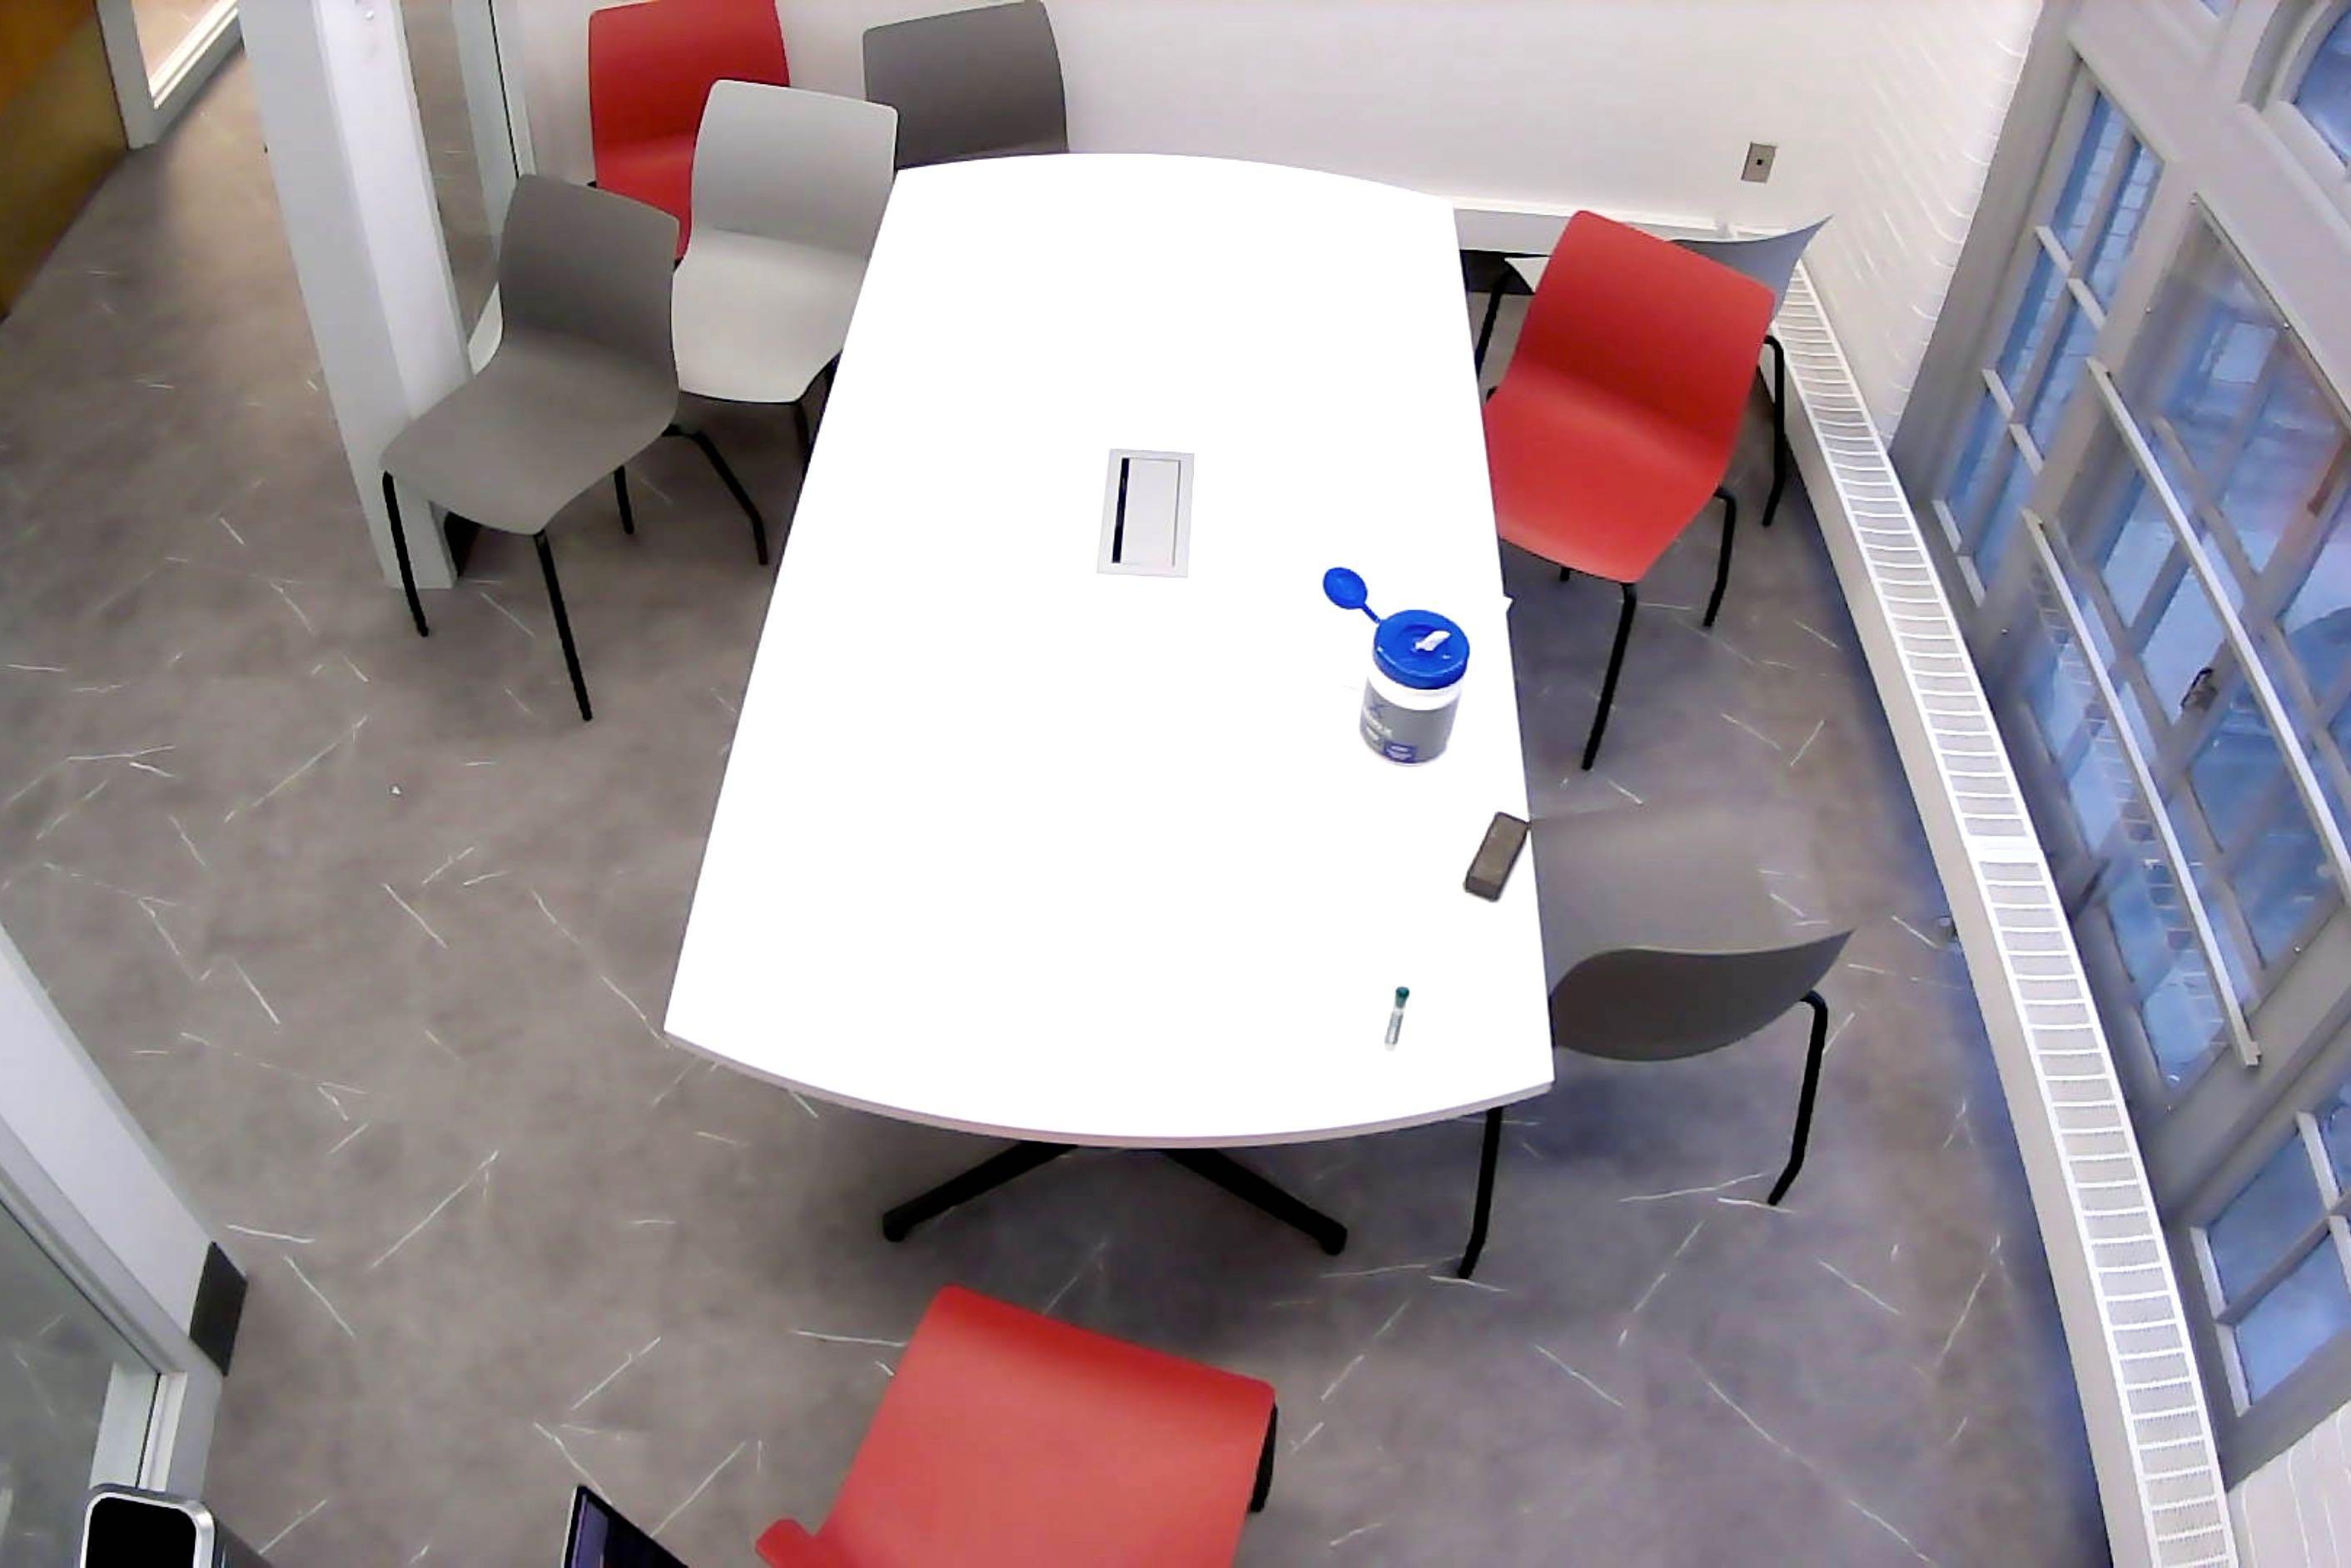Chair: (380, 168, 770, 716), (1451, 805, 1857, 1281), (1483, 214, 1773, 768), (756, 1286, 1285, 1568), (1481, 198, 1817, 509), (672, 77, 898, 478), (588, 0, 798, 254), (865, 2, 1073, 179)
Dining Table: (663, 154, 1567, 1258)
